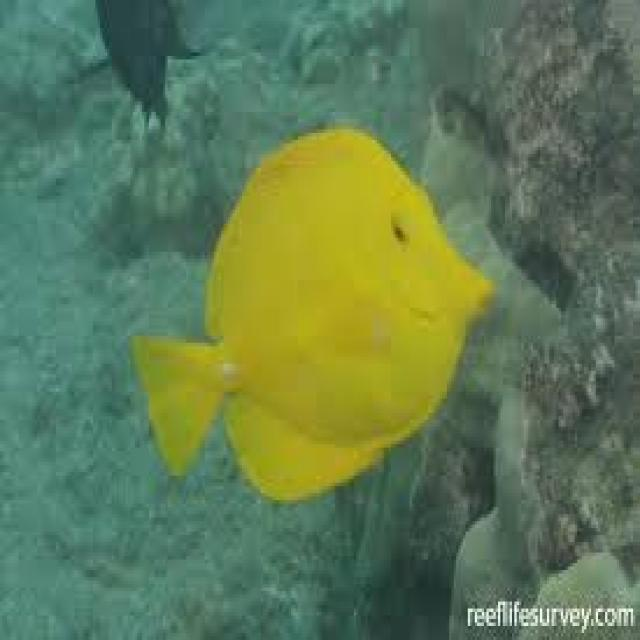TangFish: (132, 126, 495, 507)
